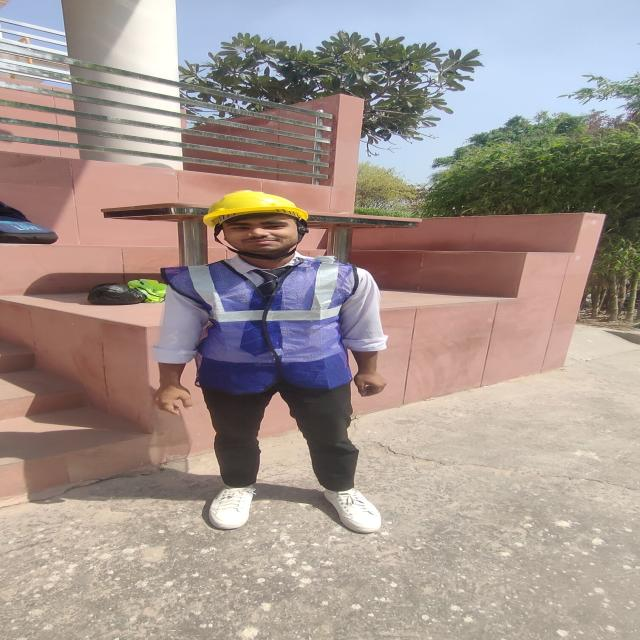safe: (160, 190, 390, 534)
